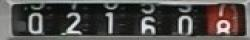digits: (137, 2, 159, 37), (213, 2, 233, 38), (176, 2, 196, 36), (101, 11, 118, 35), (65, 12, 82, 33), (26, 12, 43, 33)
